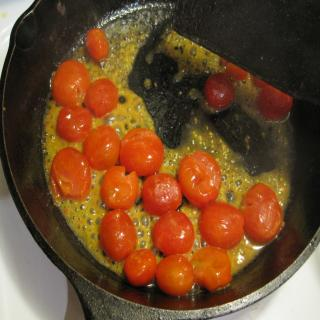tomato: (241, 182, 284, 246), (178, 149, 222, 209), (46, 147, 94, 200), (98, 206, 140, 266), (153, 210, 195, 266), (119, 127, 163, 179), (198, 202, 245, 250), (99, 166, 139, 217), (189, 244, 230, 289), (141, 172, 182, 216), (53, 61, 89, 109), (84, 124, 122, 169), (82, 78, 120, 122), (55, 106, 94, 146), (156, 255, 192, 294), (124, 254, 160, 290), (205, 70, 235, 111), (258, 86, 291, 120), (84, 28, 109, 64), (223, 58, 250, 82)
